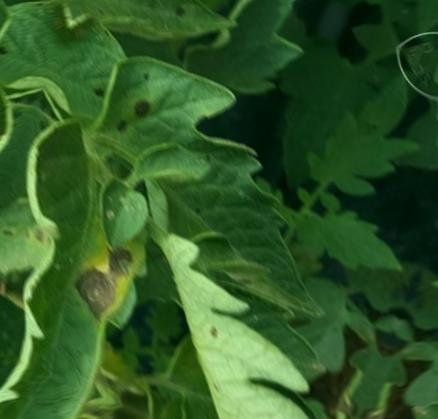Tomato Early blight leaf: (0, 108, 199, 399)
Tomato leaf: (288, 45, 438, 217), (167, 0, 325, 125)
